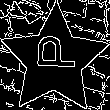P_W: (29, 41, 80, 80)
